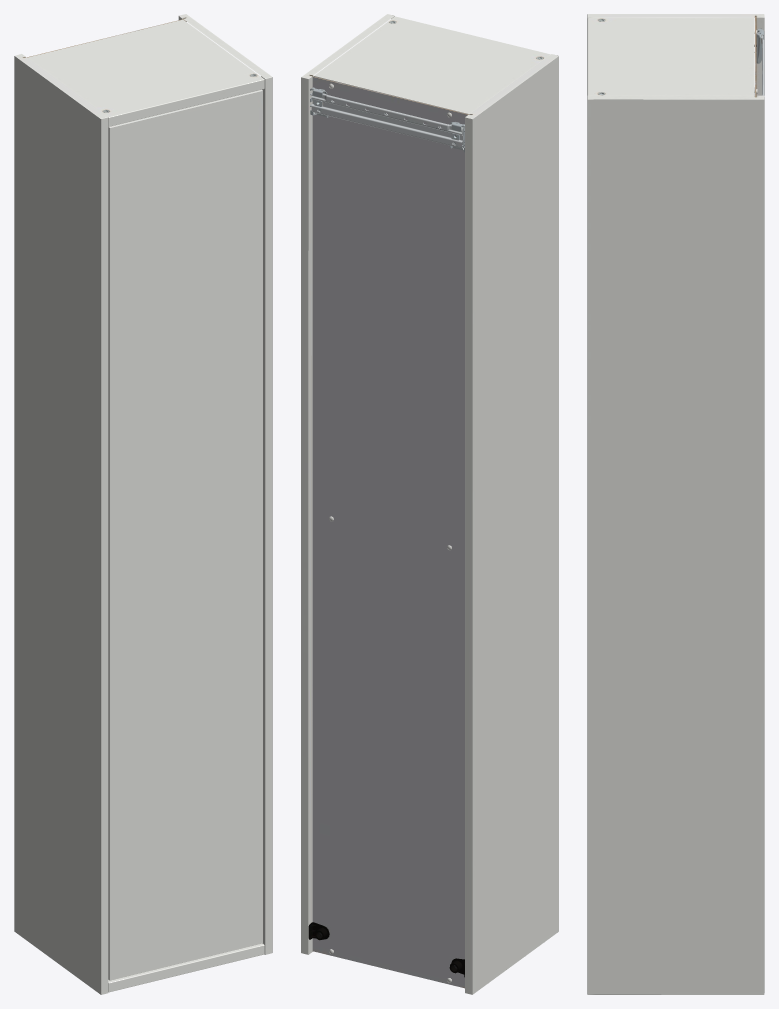
Rendered from havback_szafka_wysoka_drzwi_40535000.glb.
3 renders of one model, left to right at view 1: azimuth 30°, elevation 25°; view 2: azimuth 150°, elevation 25°; view 3: azimuth 270°, elevation 25°, orthographic. The views are drawn at different scales.
Parts seen in each view (by area): view 1: havback_szafka_wysoka_drzwi_40535000; view 2: havback_szafka_wysoka_drzwi_40535000; view 3: havback_szafka_wysoka_drzwi_40535000.
Part boxes in pixels (x1,y1,x2,y2): havback_szafka_wysoka_drzwi_40535000: (14, 14, 272, 994); havback_szafka_wysoka_drzwi_40535000: (301, 14, 558, 994); havback_szafka_wysoka_drzwi_40535000: (587, 14, 764, 994).
Size of the model in its own units: 0.4 by 1.95 by 0.35.
1 material, 1 textured.
